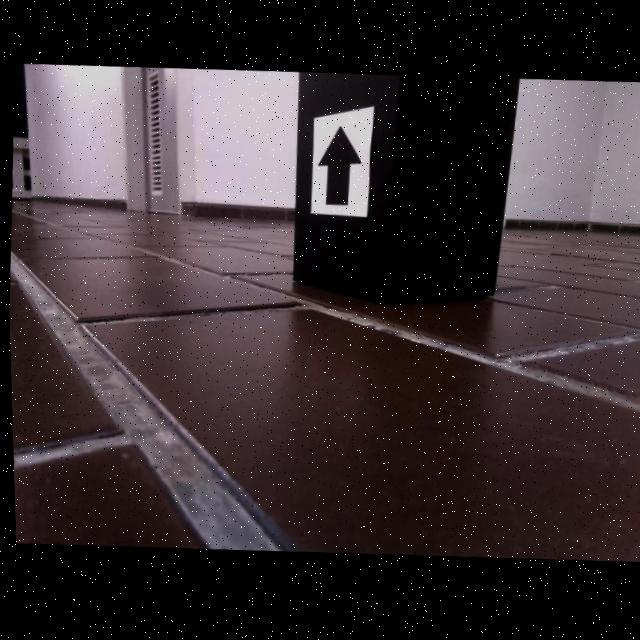UP: (316, 128, 362, 208)
